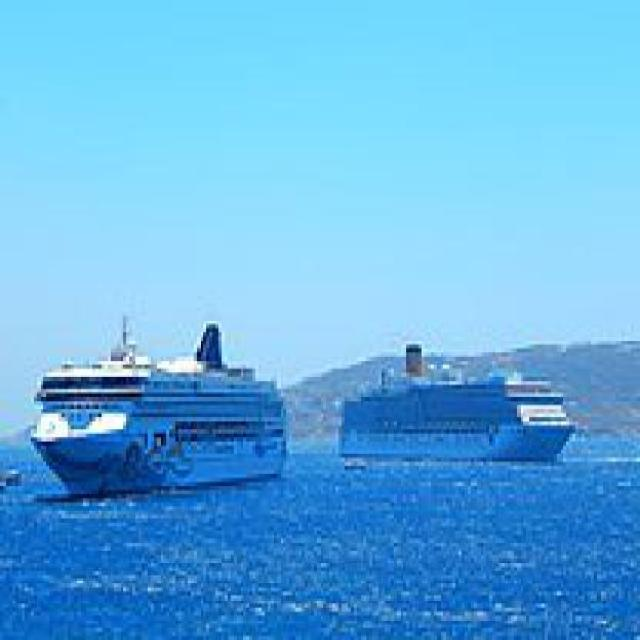cruise: (26, 318, 293, 507), (330, 333, 589, 484)
